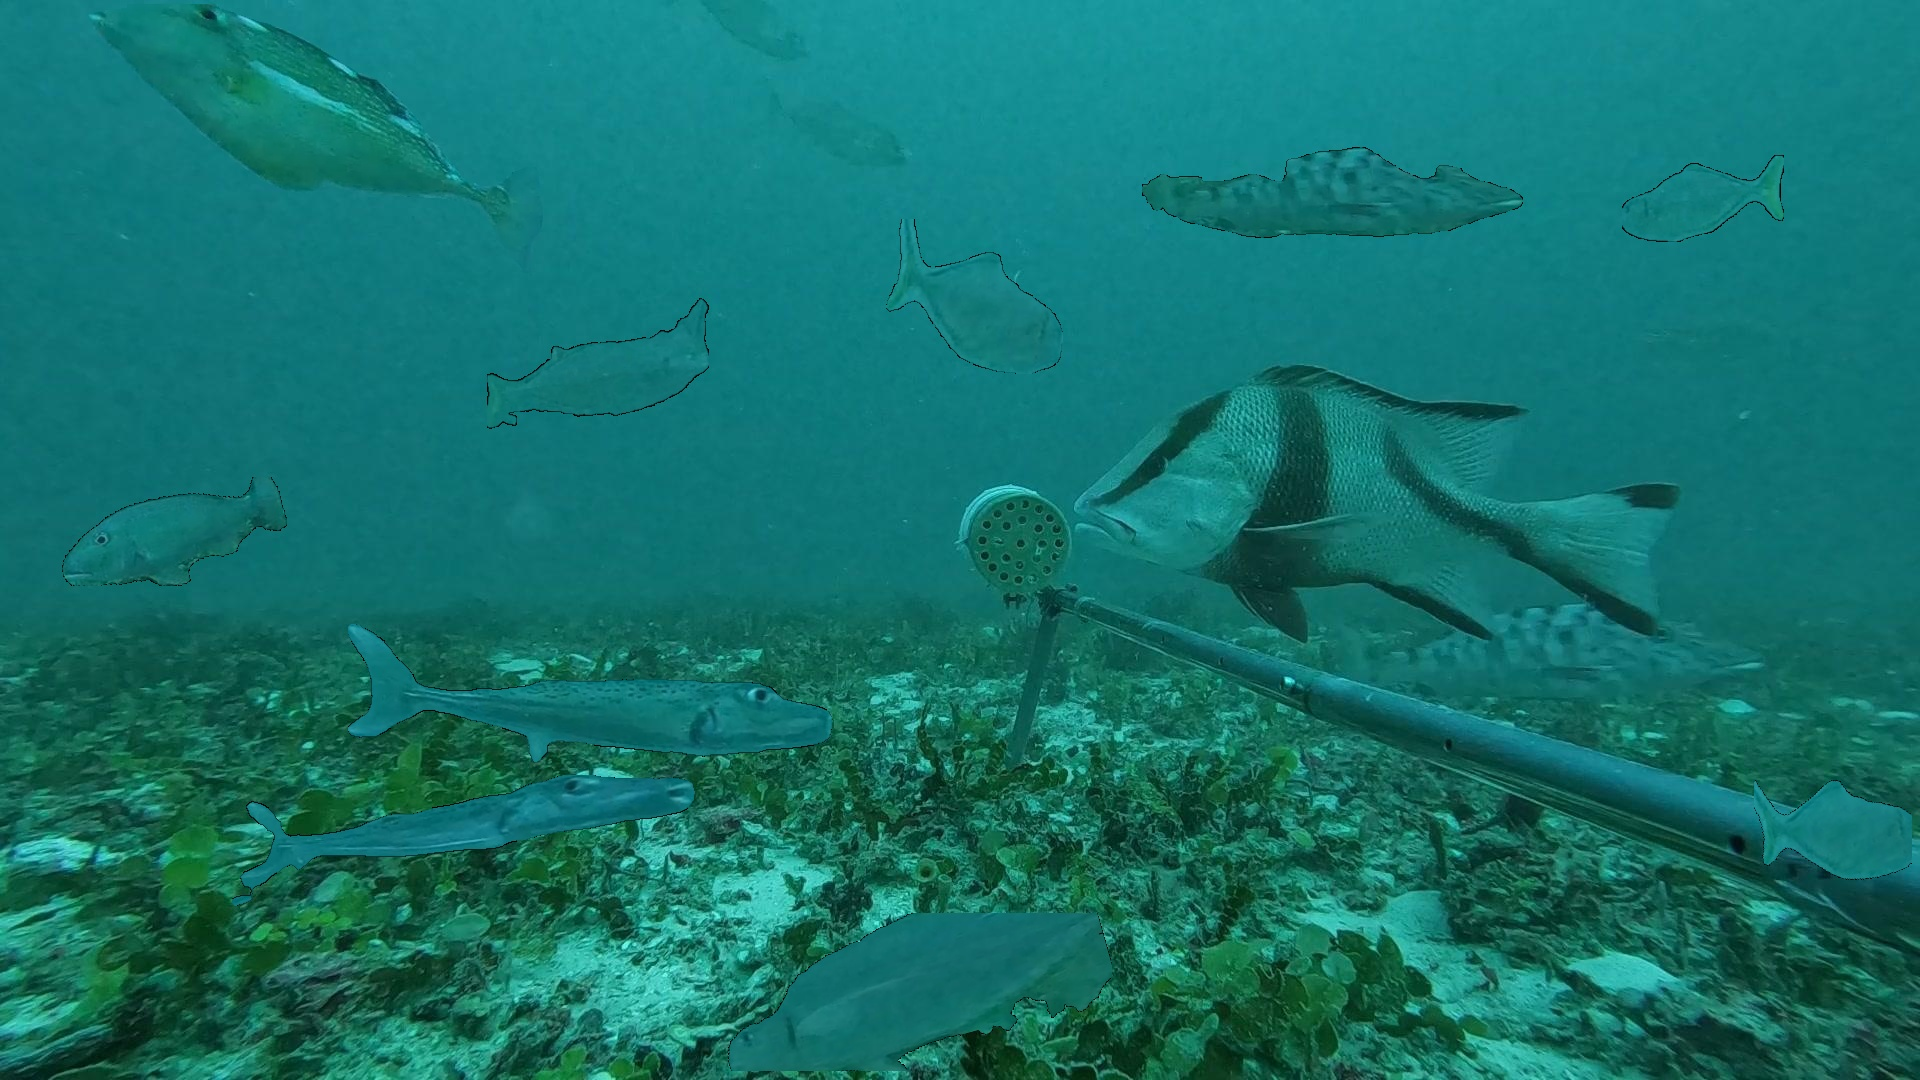fish: (1064, 305, 1702, 608), (88, 4, 543, 276), (348, 624, 833, 762), (717, 913, 1112, 1071), (232, 775, 695, 906), (1332, 597, 1750, 731), (1142, 146, 1523, 237), (487, 295, 709, 433), (886, 219, 1063, 375), (741, 62, 930, 204), (57, 477, 287, 585), (1754, 754, 1912, 893), (658, 4, 829, 92), (1622, 156, 1784, 243)
